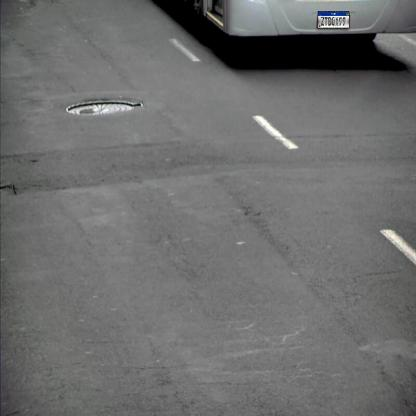PlacaM: (318, 11, 349, 29)
